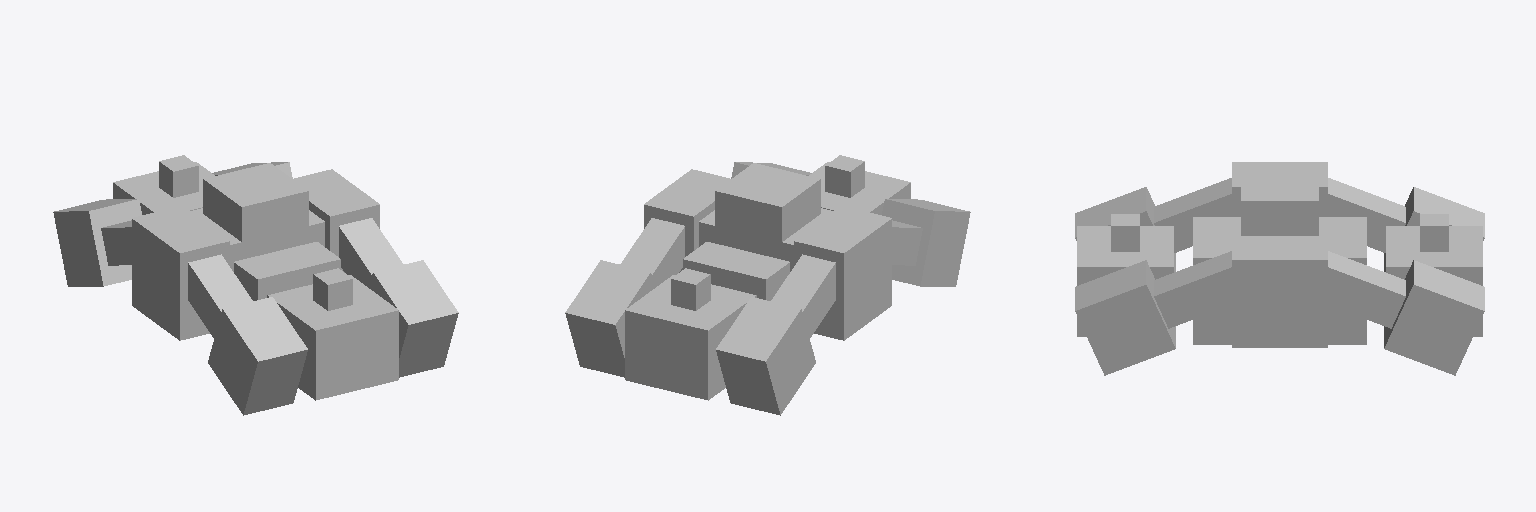
Rendered from frame.obj.
3 renders of one model, left to right at view 1: azimuth 30°, elevation 25°; view 2: azimuth 150°, elevation 25°; view 3: azimuth 270°, elevation 25°, orthographic.
Visible parts, largest first — view 1: cube_13, cube_12, cube_5, cube_3, cube_15, cube_8, cube_1, cube_10, cube_11, cube_14, cube_0, cube_4 (+3 smaller); view 2: cube_4, cube_8, cube_5, cube_3, cube_6, cube_12, cube_1, cube_10, cube_7, cube_9, cube_0, cube_13 (+3 smaller); view 3: cube_10, cube_6, cube_15, cube_1, cube_3, cube_9, cube_14, cube_4, cube_13, cube_7, cube_11, cube_8 (+4 smaller).
Boxes of the visible parts, box(x1,y1,x2,y2) form: cube_13: box(267, 275, 398, 400); cube_12: box(208, 297, 307, 415); cube_5: box(132, 206, 229, 340); cube_3: box(203, 163, 308, 241); cube_15: box(369, 260, 458, 377); cube_8: box(53, 199, 141, 286); cube_1: box(189, 208, 340, 300); cube_10: box(293, 169, 379, 272); cube_11: box(188, 254, 252, 337); cube_14: box(339, 218, 403, 287); cube_0: box(196, 210, 324, 271); cube_4: box(113, 162, 214, 214); cube_4: box(625, 275, 756, 400); cube_8: box(716, 297, 815, 415); cube_5: box(794, 206, 891, 340); cube_3: box(715, 163, 820, 241); cube_6: box(565, 260, 654, 377); cube_12: box(882, 199, 970, 286); cube_1: box(683, 208, 834, 300); cube_10: box(644, 169, 730, 272); cube_7: box(771, 254, 835, 337); cube_9: box(620, 218, 684, 287); cube_0: box(699, 210, 827, 271); cube_13: box(809, 162, 910, 214); cube_10: box(1232, 236, 1327, 347); cube_6: box(1384, 260, 1484, 375); cube_15: box(1075, 260, 1175, 375); cube_1: box(1193, 217, 1366, 344); cube_3: box(1241, 169, 1318, 235); cube_9: box(1328, 251, 1405, 328); cube_14: box(1154, 251, 1231, 328); cube_4: box(1386, 226, 1482, 336); cube_13: box(1077, 226, 1173, 336); cube_7: box(1328, 178, 1405, 252); cube_11: box(1154, 178, 1231, 252); cube_8: box(1384, 187, 1484, 271).
Bounding box in the file's own units: 1.5 × 1.01 × 2.65.